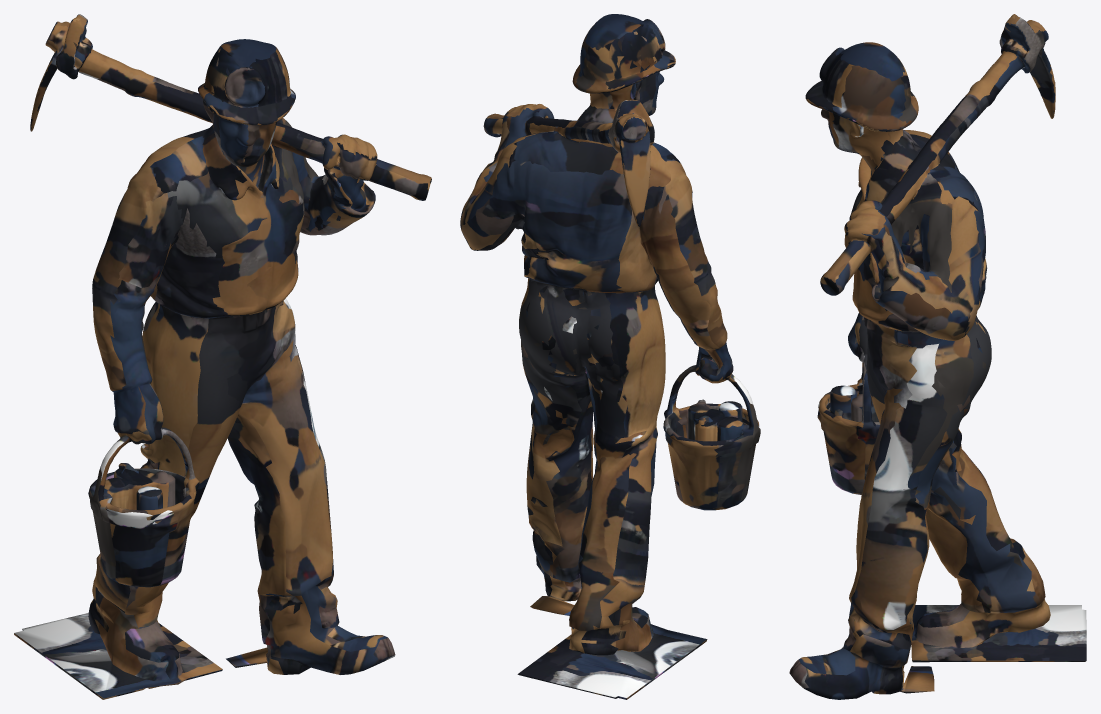
3 renders of one model, left to right at view 1: azimuth 30°, elevation 25°; view 2: azimuth 150°, elevation 25°; view 3: azimuth 270°, elevation 25°, orthographic. The views are drawn at different scales.
Parts seen in each view (by area): view 1: Miner; view 2: Miner; view 3: Miner.
Boxes of the visible parts, box(x1,y1,x2,y2) form: Miner: box(14, 14, 431, 699); Miner: box(460, 14, 760, 699); Miner: box(789, 14, 1086, 699).
Bounding box in the file's own units: 0.9348 × 1.8 × 0.7907.
